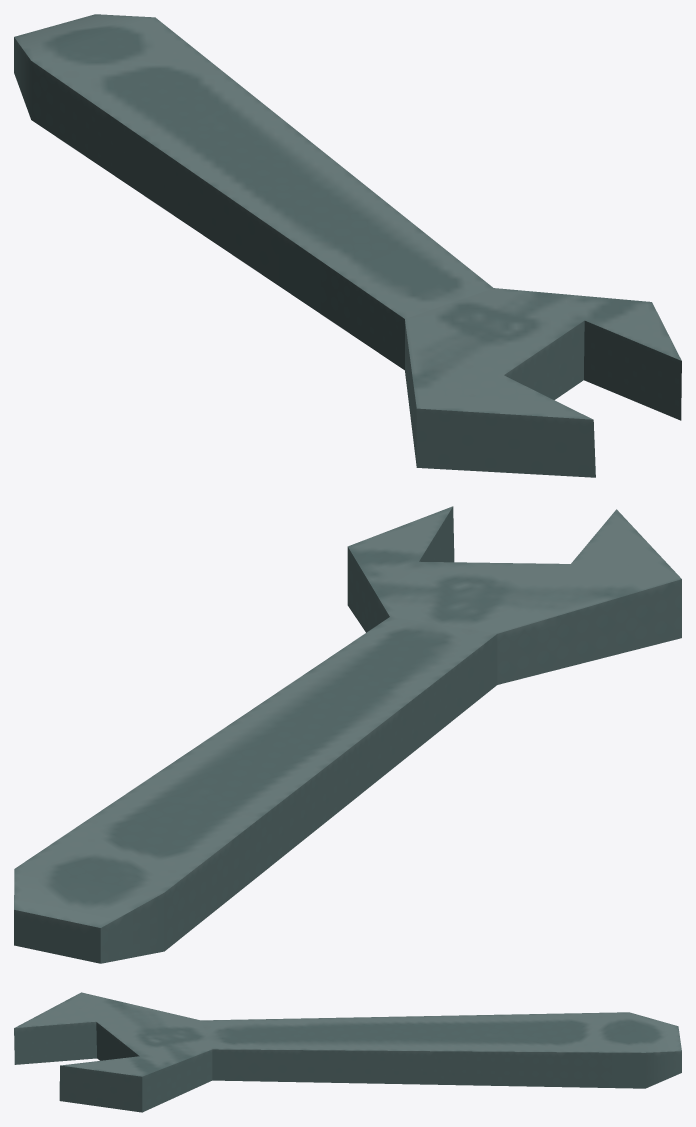
File: SM_Wrench.fbx
The picture shows the model from 3 angles, top to bottom: view 1: azimuth 30°, elevation 25°; view 2: azimuth 150°, elevation 25°; view 3: azimuth 270°, elevation 25°; orthographic projection. The views are drawn at different scales.
Visible parts, largest first — view 1: SM_Wrench; view 2: SM_Wrench; view 3: SM_Wrench.
Boxes of the visible parts, left/top/right/bottom form: SM_Wrench: left=14, top=14, right=681, bottom=477; SM_Wrench: left=14, top=506, right=681, bottom=963; SM_Wrench: left=14, top=992, right=681, bottom=1112.
Bounding box in the file's own units: 2.53 × 0.5014 × 8.46.
1 material, 1 textured.
